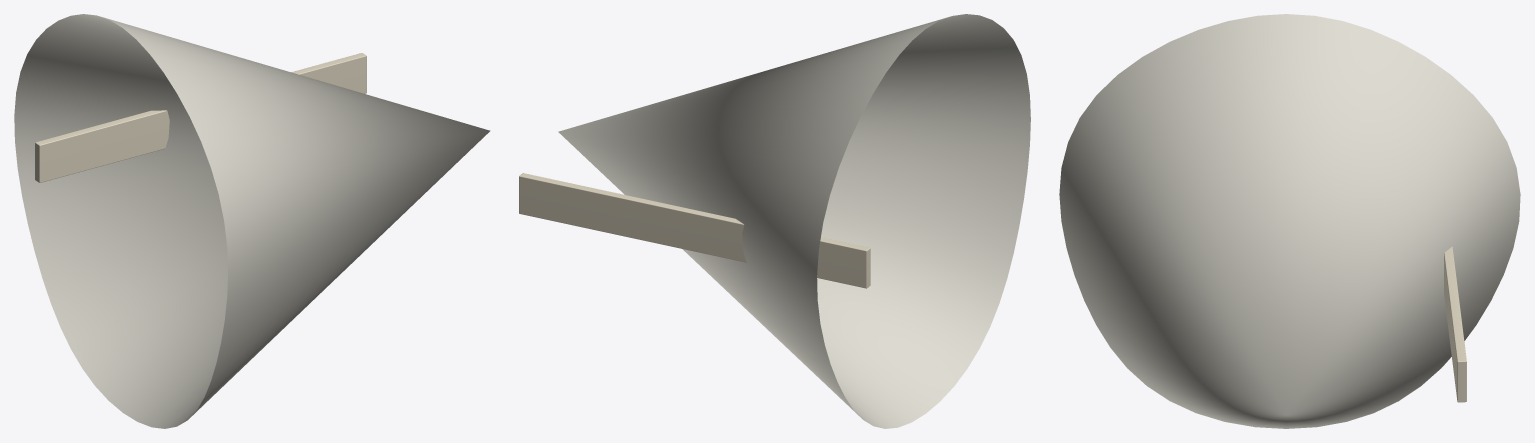
Rendered from nose_cone_b.glb.
3 renders of one model, left to right at view 1: azimuth 30°, elevation 25°; view 2: azimuth 150°, elevation 25°; view 3: azimuth 270°, elevation 25°, orthographic. The views are drawn at different scales.
Visible parts, largest first — view 1: RW3_Paper_Nose_Cone_B, RW3_Paper_Nose_Cone_B_Glue_Overlap; view 2: RW3_Paper_Nose_Cone_B, RW3_Paper_Nose_Cone_B_Glue_Overlap; view 3: RW3_Paper_Nose_Cone_B, RW3_Paper_Nose_Cone_B_Glue_Overlap.
Boxes of the visible parts, x1,y1,x2,y2 form: RW3_Paper_Nose_Cone_B: (14,14,490,428); RW3_Paper_Nose_Cone_B_Glue_Overlap: (35,53,366,182); RW3_Paper_Nose_Cone_B: (558,14,1030,428); RW3_Paper_Nose_Cone_B_Glue_Overlap: (519,173,870,288); RW3_Paper_Nose_Cone_B: (1059,14,1520,428); RW3_Paper_Nose_Cone_B_Glue_Overlap: (1444,246,1466,402).
Size of the model in its own units: 0.8943 by 0.86 by 0.8662.
